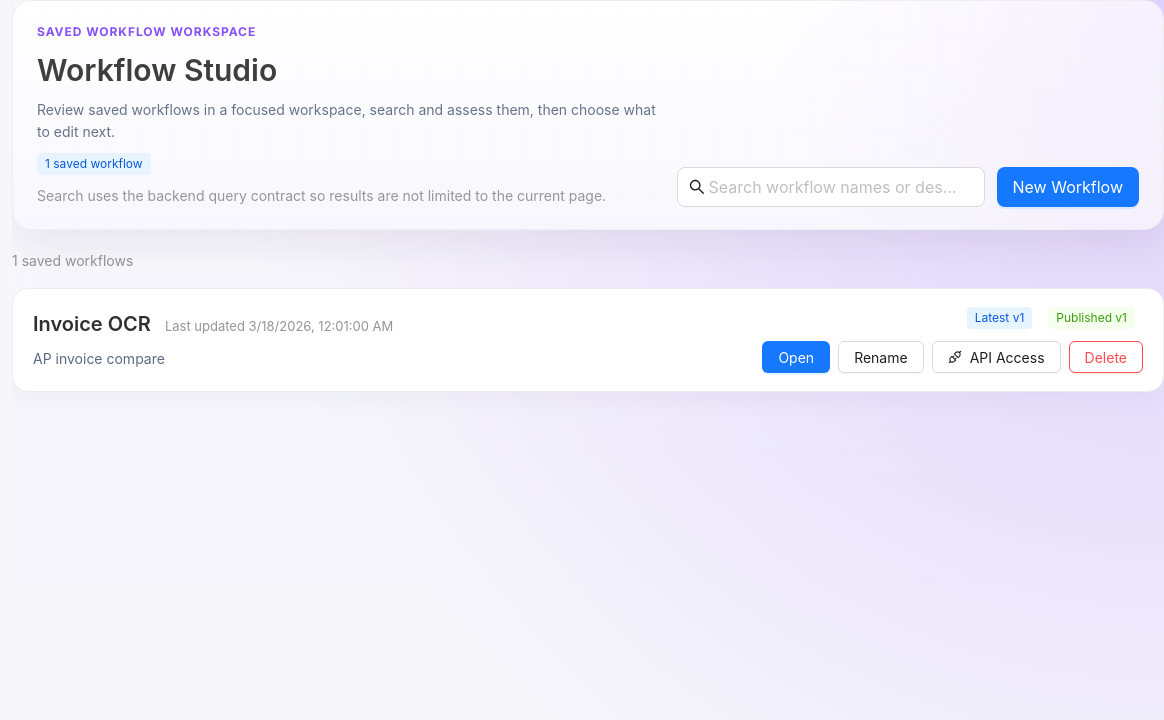
Scenario: WorkflowStudioPage › uses debounced backend search and supports clearing a no-result state
Check: the heading "Invoice OCR" is shown, box [33,310,151,338]
Step 1. Type "missing" into the field with placeholder "Search workflow names or descriptions" → (832, 187), box [708,175,956,199]
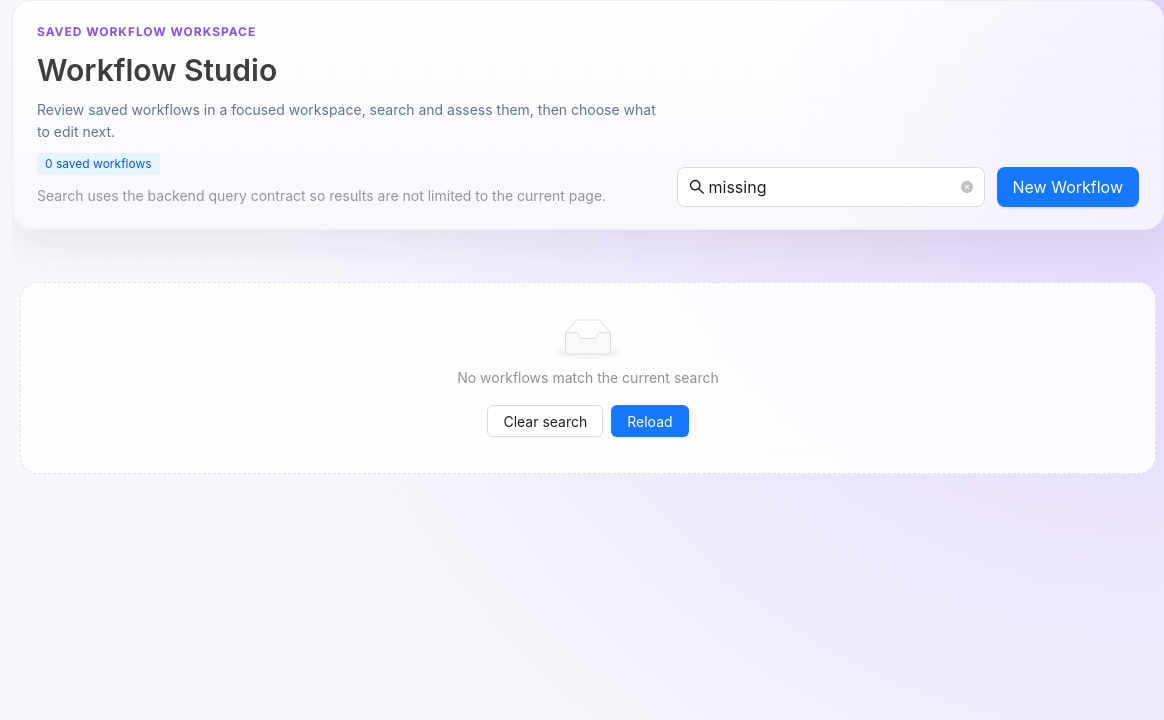
Check: the element with test id "workflow-studio-empty-search" is shown, box [20,282,1156,474]
Step 2. Click the button with test id "workflow-studio-clear-search" → click(545, 421), box [487,405,603,437]
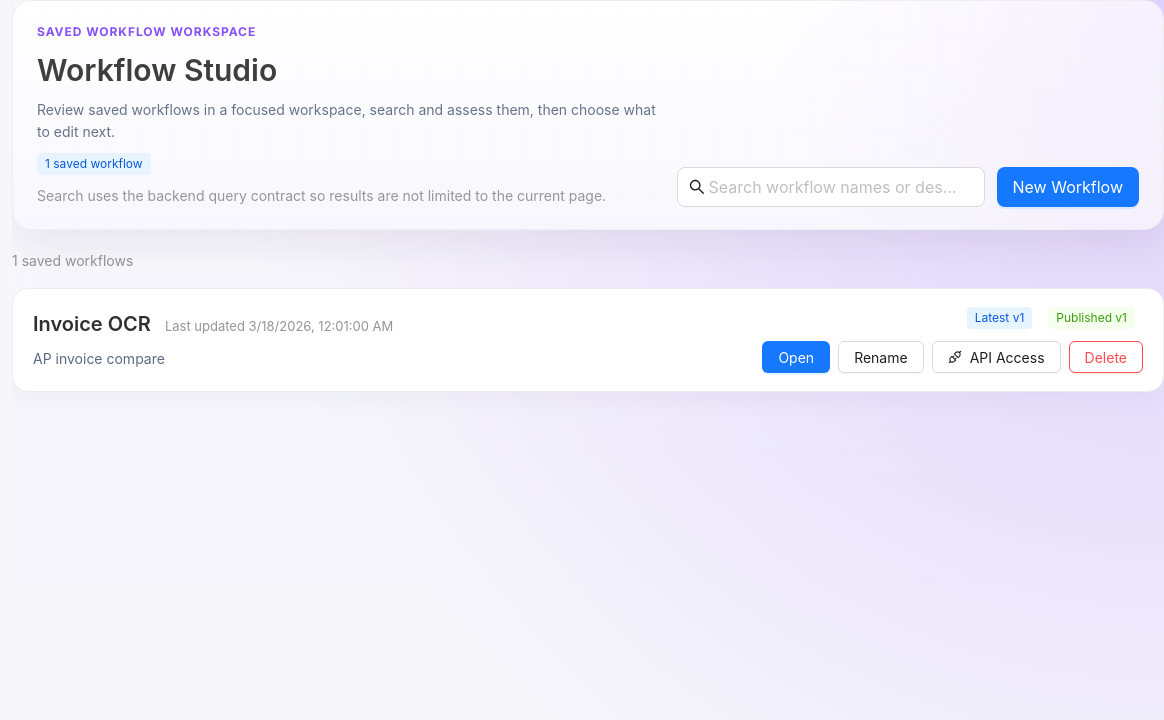
Check: the heading "Invoice OCR" is shown, box [33,310,151,338]
